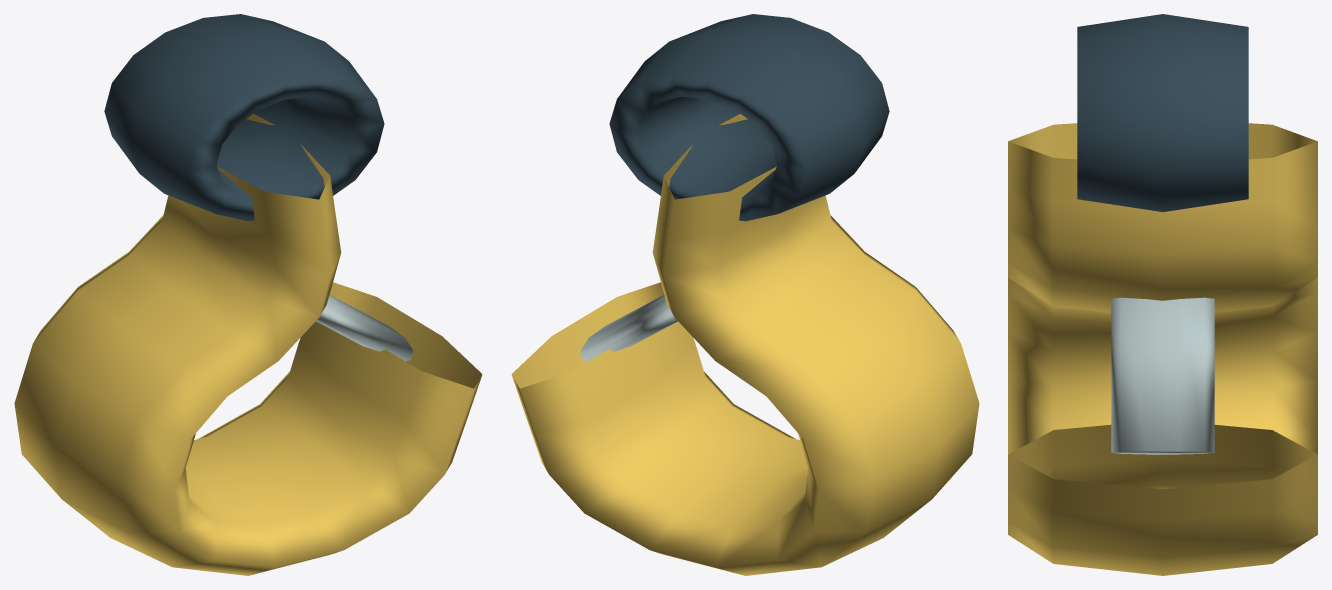
The model's file is hook.glb.
3 views of the same model, side by side, from view 1: azimuth 30°, elevation 25°; view 2: azimuth 150°, elevation 25°; view 3: azimuth 270°, elevation 25° (orthographic). The views are drawn at different scales.
Visible parts, largest first — view 1: tyaga-hook-surface; view 2: tyaga-hook-surface; view 3: tyaga-hook-surface.
Boxes of the visible parts, left/top/right/bottom form: tyaga-hook-surface: left=14, top=14, right=482, bottom=575; tyaga-hook-surface: left=511, top=14, right=979, bottom=575; tyaga-hook-surface: left=1008, top=14, right=1317, bottom=575.
Bounding box in the file's own units: 0.18 × 0.22 × 0.12.
